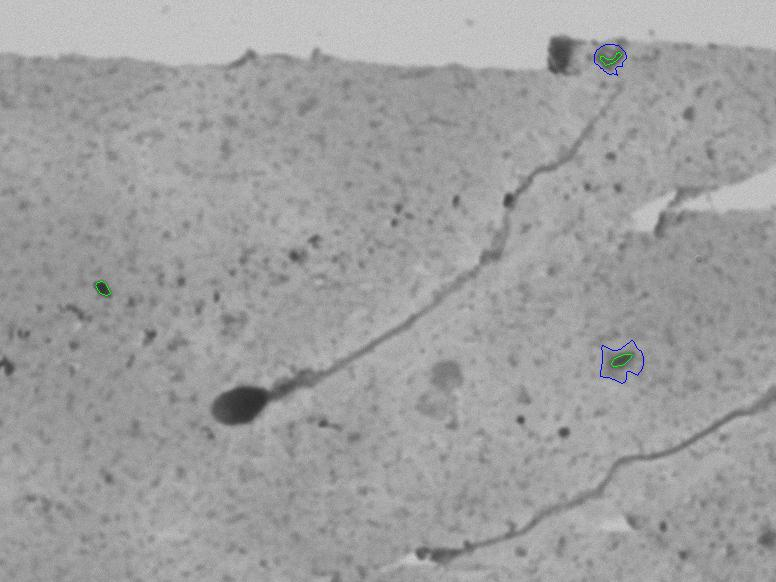Abnormal: (189, 75, 645, 435)
